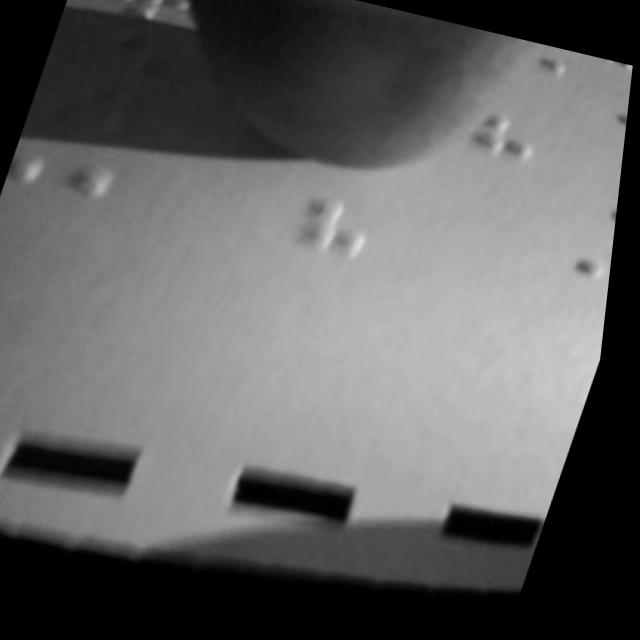braiile: (248, 176, 398, 268), (554, 185, 624, 254), (574, 144, 627, 207)
